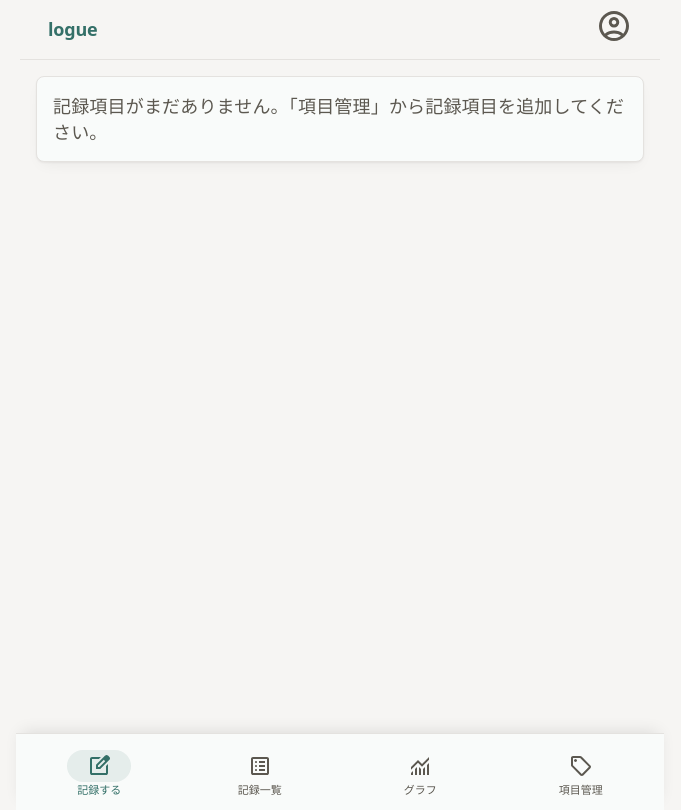
Test: App › authenticated › switches between tabs while updating the browser URL
Check: the button named "Taro のメニュー" is shown, box [596,8,632,51]
Check: the text "記録項目がまだありません。「項目管理」から記録項目を追加してください。" is shown, box [36,76,644,162]
Click the button "項目管理": x=581, y=772 [502,740,660,804]
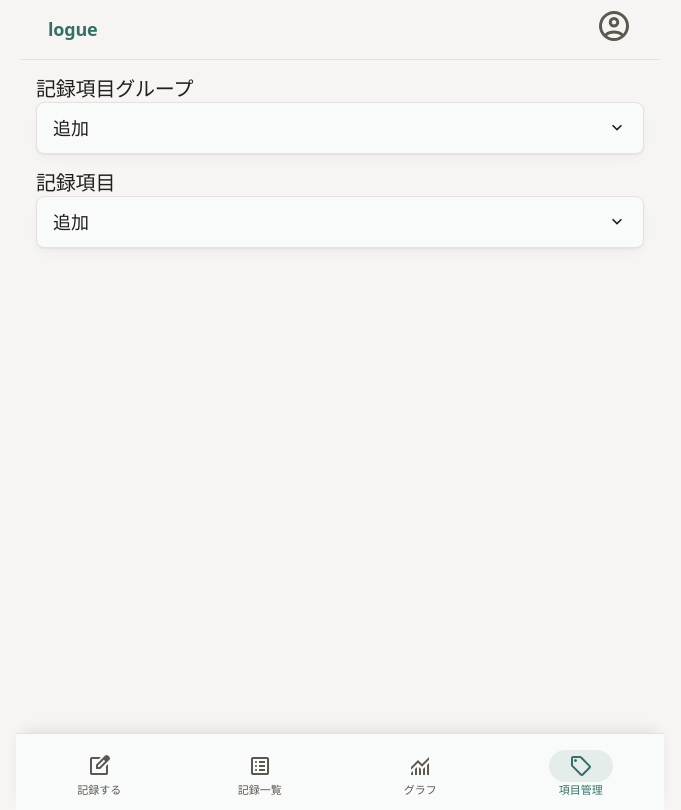
Check: the heading "記録項目グループ" is shown, box [36,75,193,102]
Click the button "記録一覧": x=260, y=772 [180,740,339,804]
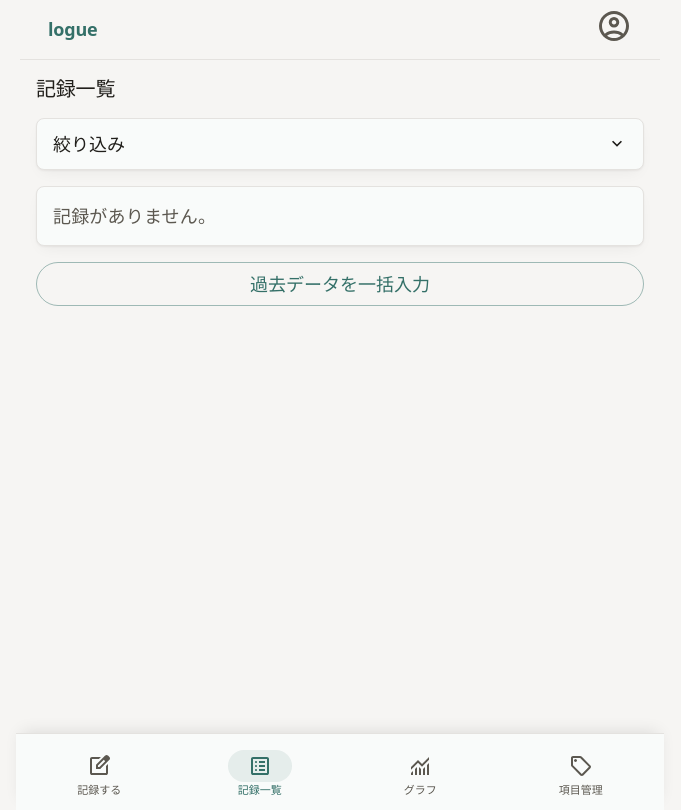
Check: the heading "記録一覧" is shown, box [36,75,115,102]
